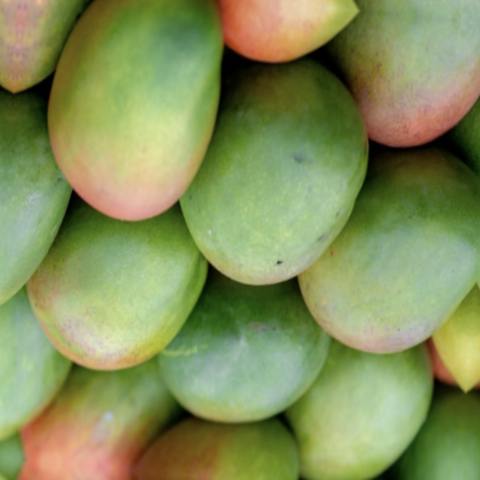mango: (153, 51, 389, 302), (22, 0, 248, 235), (287, 117, 480, 381), (140, 267, 345, 459)
